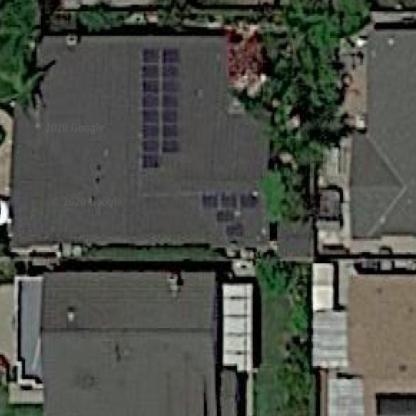solar_panel: (135, 41, 184, 178), (198, 184, 266, 240)
